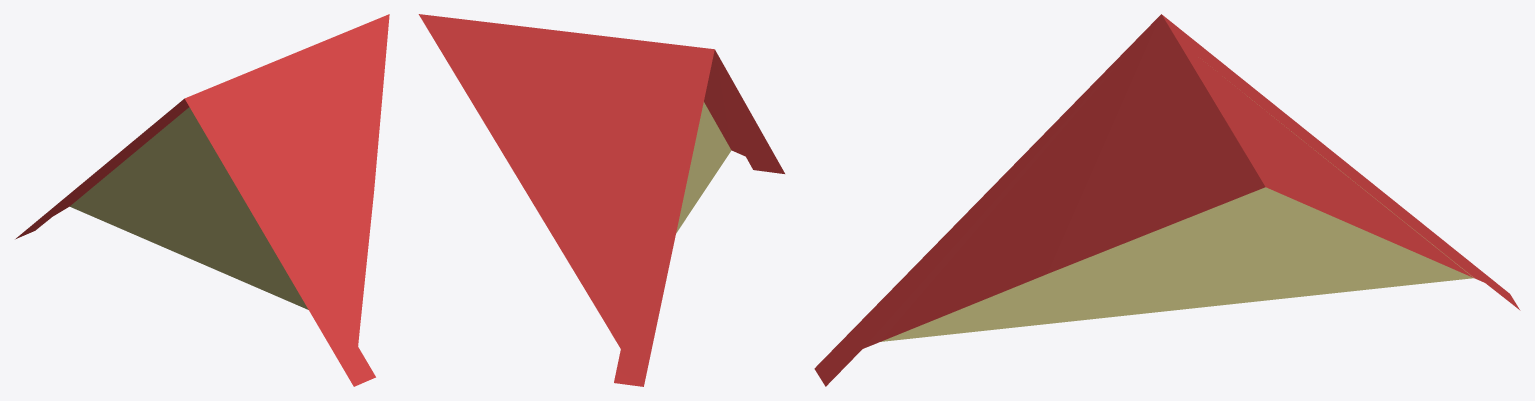
3 views of the same model, side by side, from view 1: azimuth 30°, elevation 25°; view 2: azimuth 150°, elevation 25°; view 3: azimuth 270°, elevation 25° (orthographic). The views are drawn at different scales.
Bounding box in the file's own units: 6.01 × 8.52 × 4.22.
